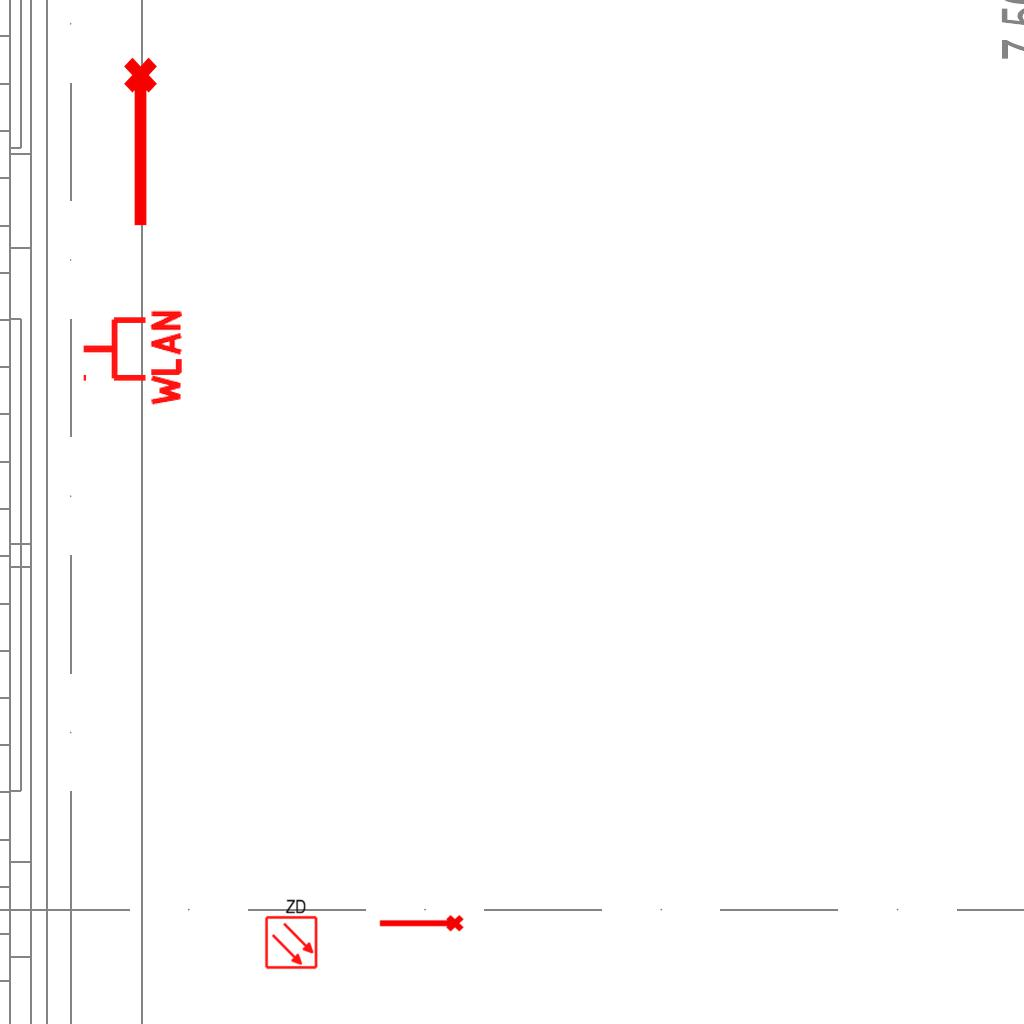ASR_Ansaugoeffnung: (120, 55, 166, 231), (377, 913, 465, 936)
WLAN: (79, 306, 184, 410)
ZD_Melder_in_Zwischendecke_mit_Revisionsoeffnung_mind_40_x_40_cm: (262, 896, 319, 970)
